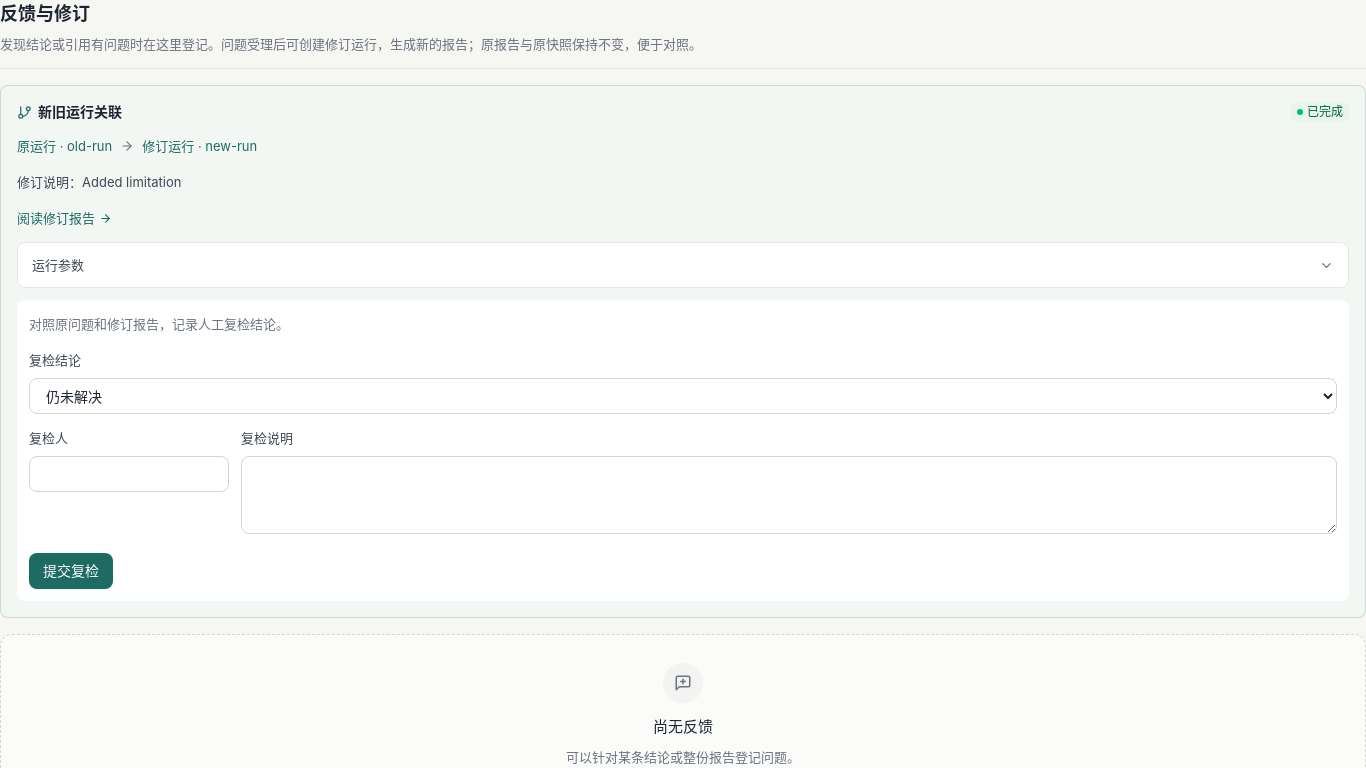
Test: shows revision lineage then resolves through the parent endpoint even on the child page
expect the heading "新旧运行关联" is shown: met, box [17,102,122,122]
Select "已解决（需报告完成）" in the dropdown labelled "复检结论" at (683, 396), box [29,378,1337,414]
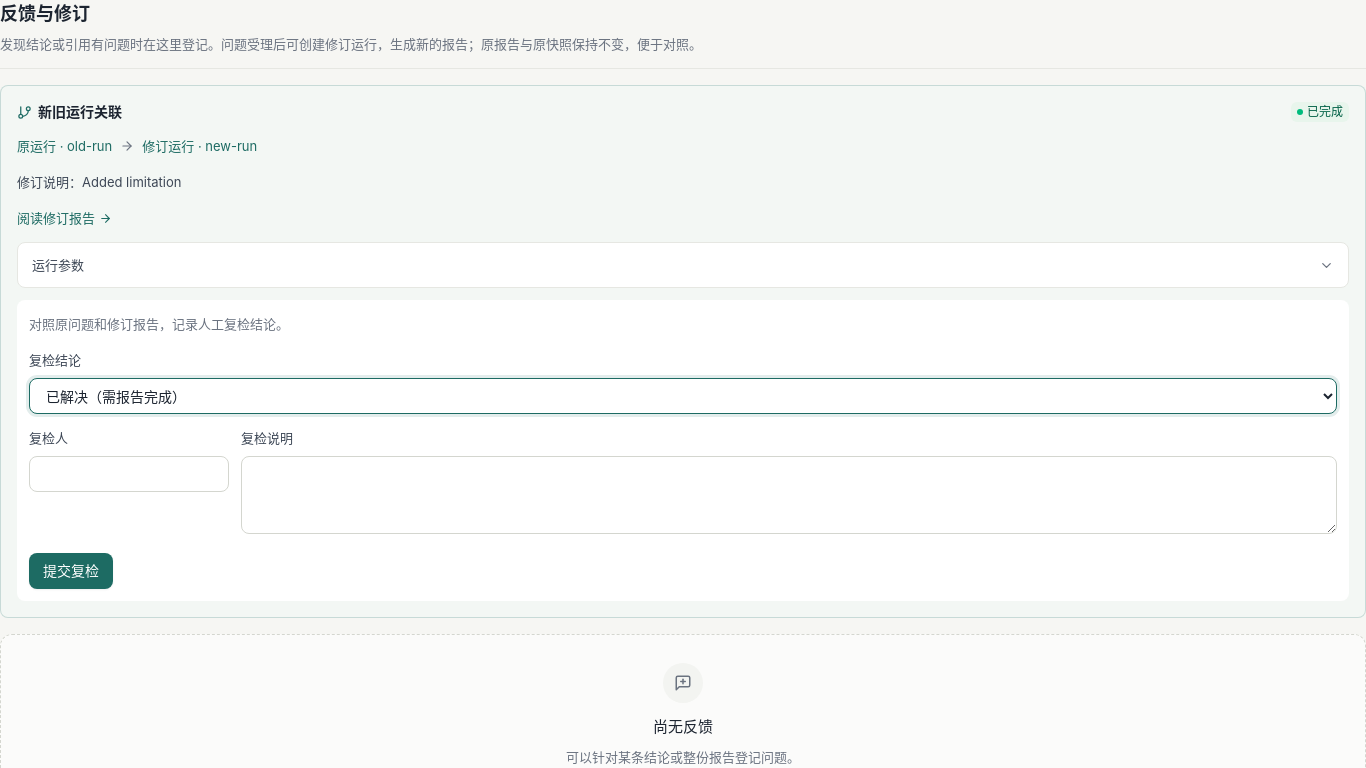
Type "Reviewer" into the field labelled "复检人" at (129, 474), box [29,456,229,492]
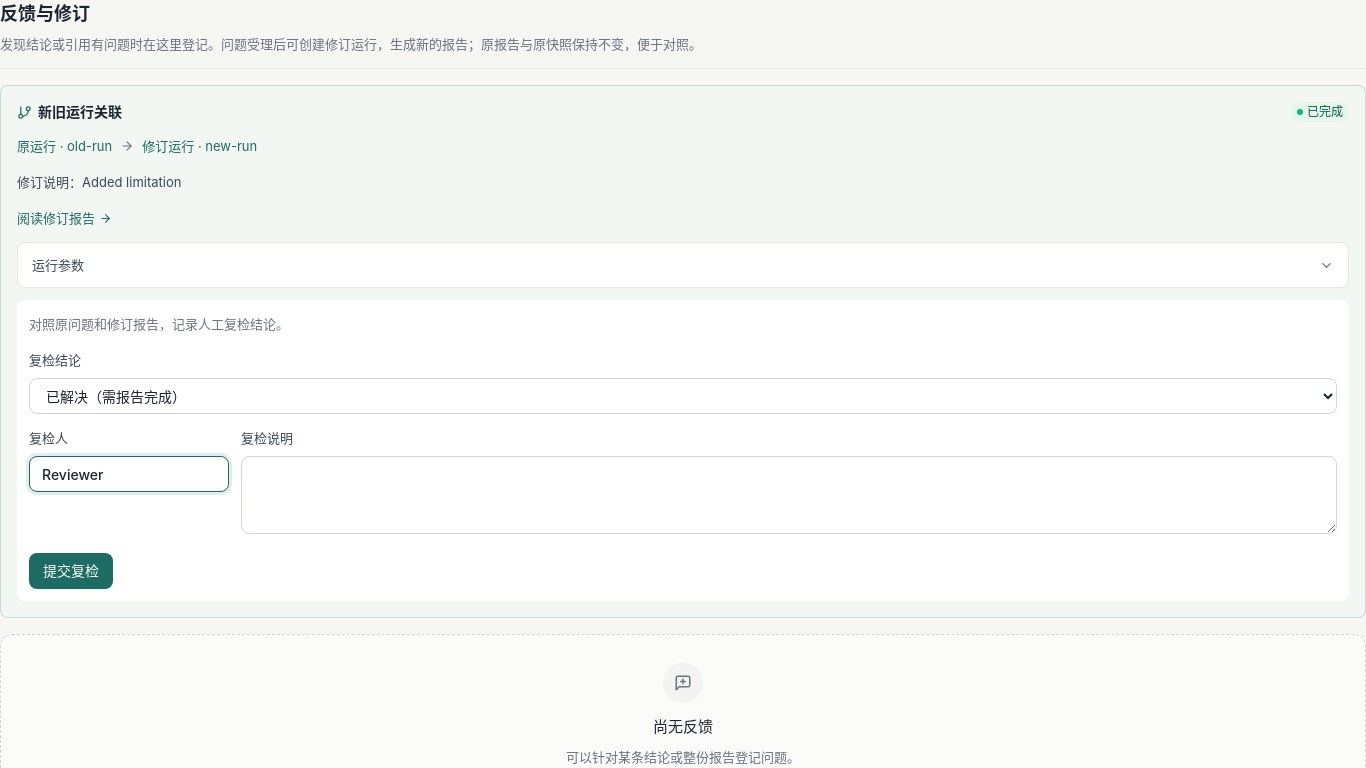
Type "Compared reports" into the text box labelled "复检说明" at (789, 495), box [241,456,1337,534]
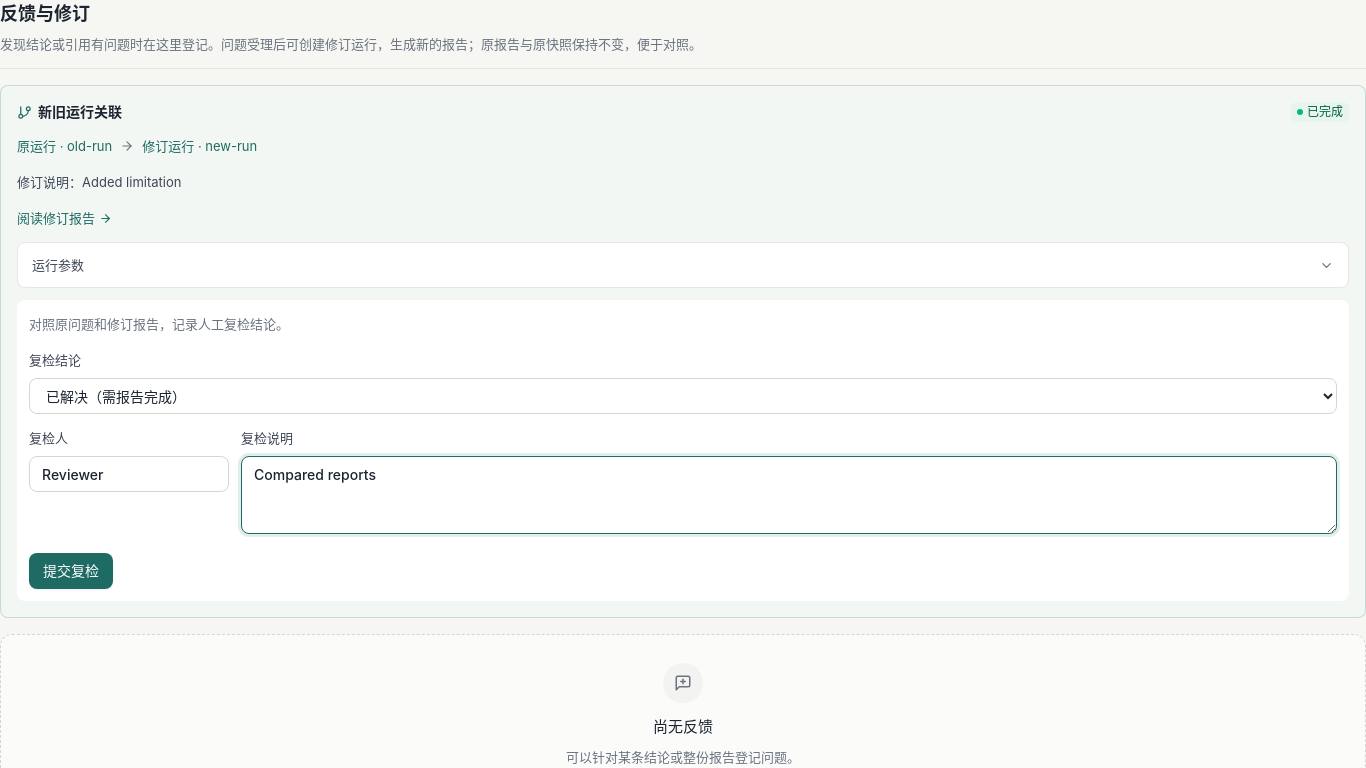
Click the button "提交复检" at (71, 571), box [29,553,113,589]
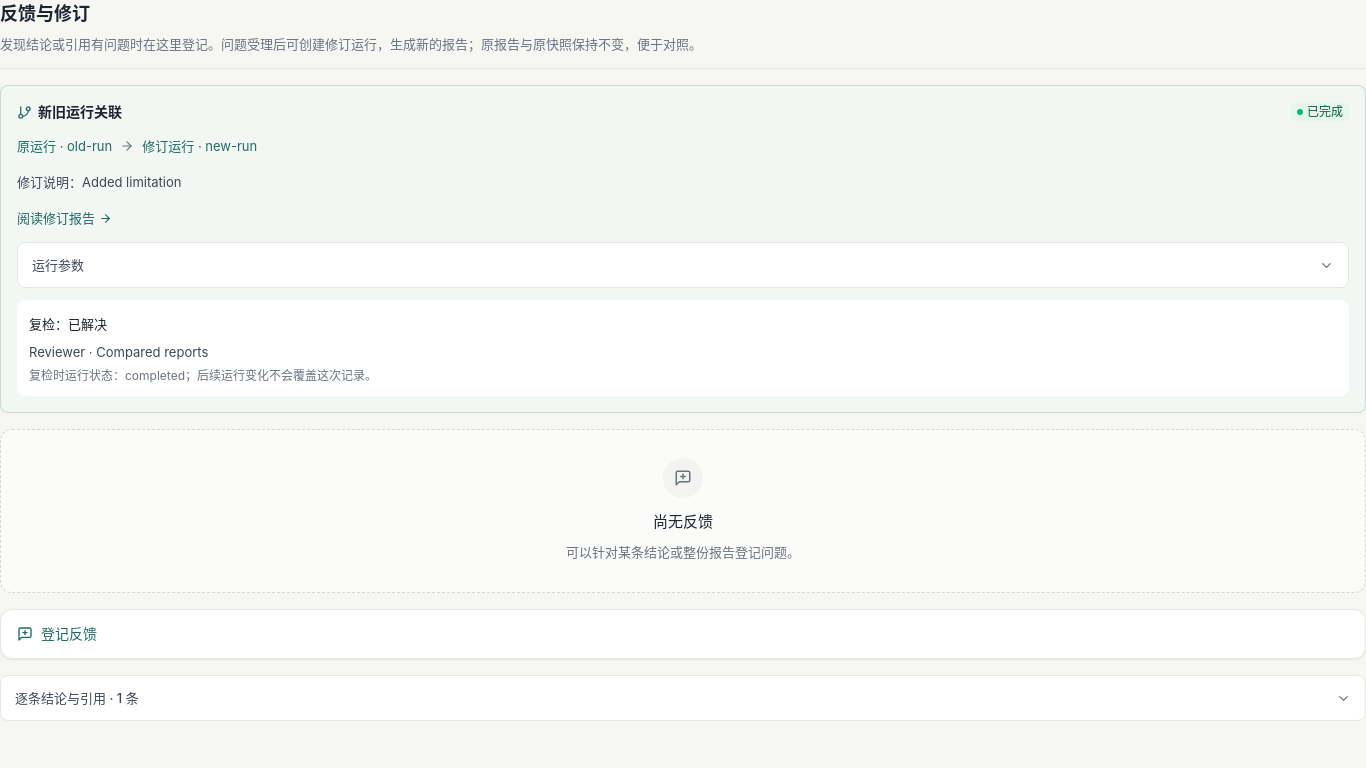
expect the text "复检：已解决" is shown: met, box [29,316,107,332]
